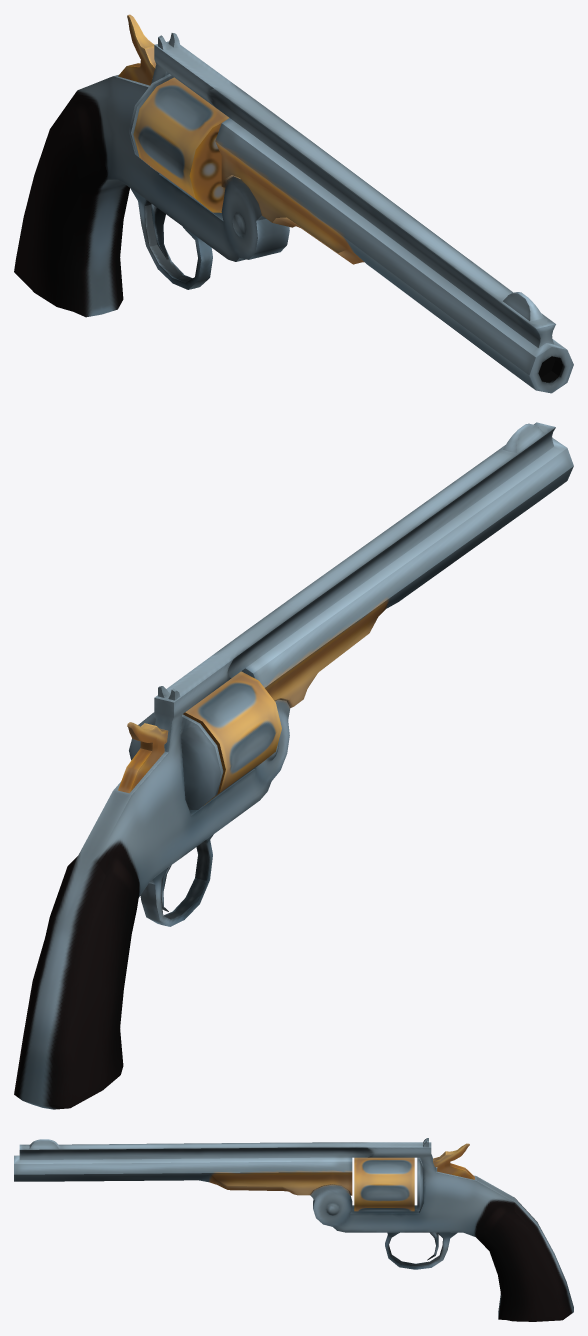
File: Amaris_Gun.fbx
3 views of the same model, one above another, from view 1: azimuth 30°, elevation 25°; view 2: azimuth 150°, elevation 25°; view 3: azimuth 270°, elevation 25° (orthographic). The views are drawn at different scales.
Parts seen in each view (by area): view 1: Standalone_Gun; view 2: Standalone_Gun; view 3: Standalone_Gun.
Boxes of the visible parts, bbox=[...] form: Standalone_Gun: bbox=[14, 14, 573, 393]; Standalone_Gun: bbox=[14, 422, 573, 1109]; Standalone_Gun: bbox=[14, 1138, 573, 1321].
Size of the model in its own units: 3.76 by 12.82 by 36.62.
